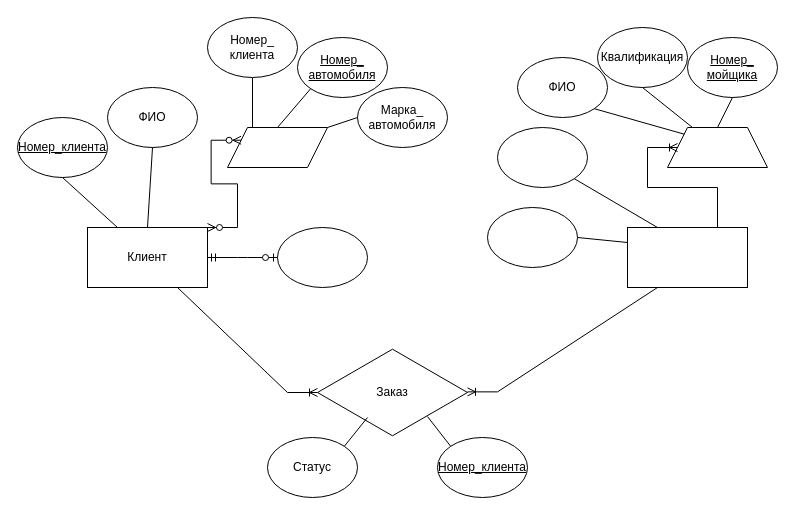
The diagram is 795 pixels wide and 515 high, and some of its shapes have lost their labels. Here are the shapes that lost their labels. From the top down, the box of each, then its label:
(226, 126, 328, 168): Автомобиль
(666, 126, 768, 168): Мойщик
(276, 226, 368, 288): Номер_ бонусного_ счёта
(626, 226, 748, 288): Компания
